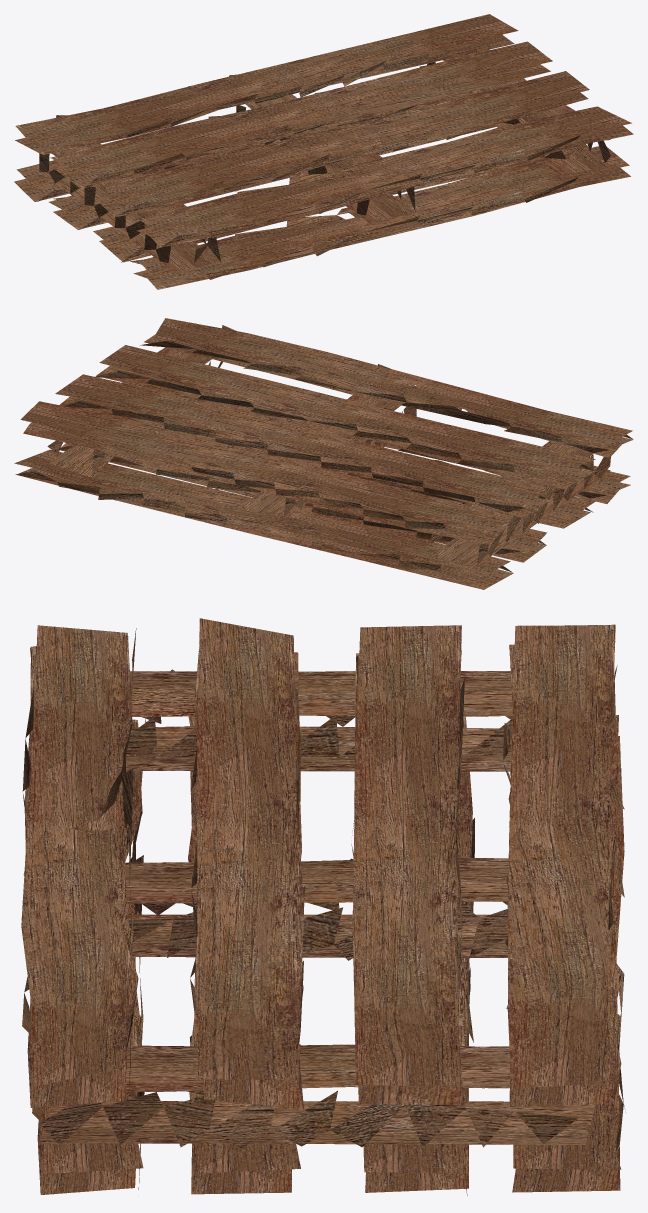
The model's file is Pallet.FBX.
The picture shows the model from 3 angles, top to bottom: view 1: azimuth 30°, elevation 25°; view 2: azimuth 150°, elevation 25°; view 3: azimuth 270°, elevation 25°; orthographic projection. The views are drawn at different scales.
Parts seen in each view (by area): view 1: palette_1; view 2: palette_1; view 3: palette_1.
Boxes of the visible parts, x1,y1,x2,y2 form: palette_1: [14, 14, 633, 289]; palette_1: [14, 318, 633, 589]; palette_1: [21, 618, 625, 1195].
Size of the model in its own units: 114 by 14.33 by 62.53.
Materials: 1 (1 with a texture image).
